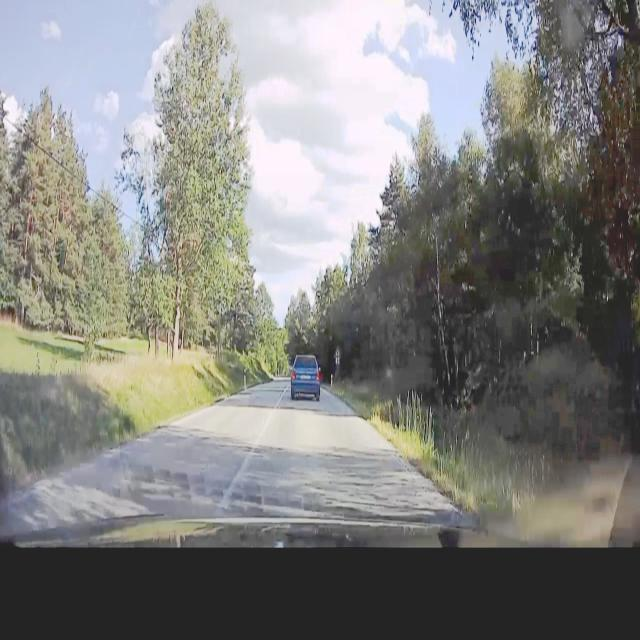Priority road: (335, 345, 340, 356)
